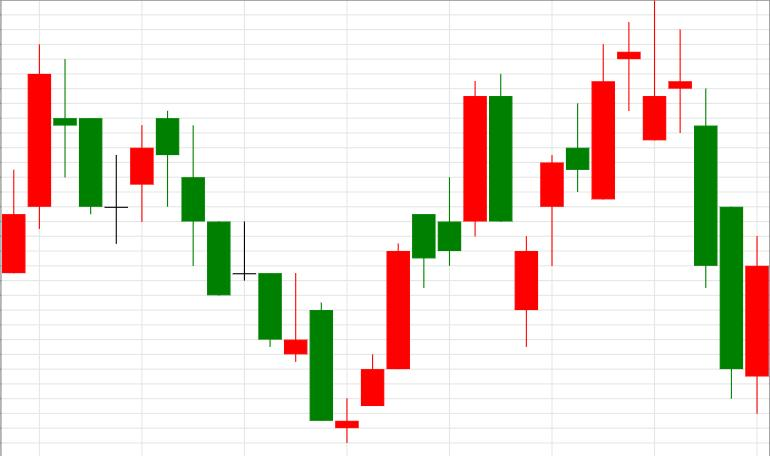morning_star_rise: (156, 112, 384, 443)
